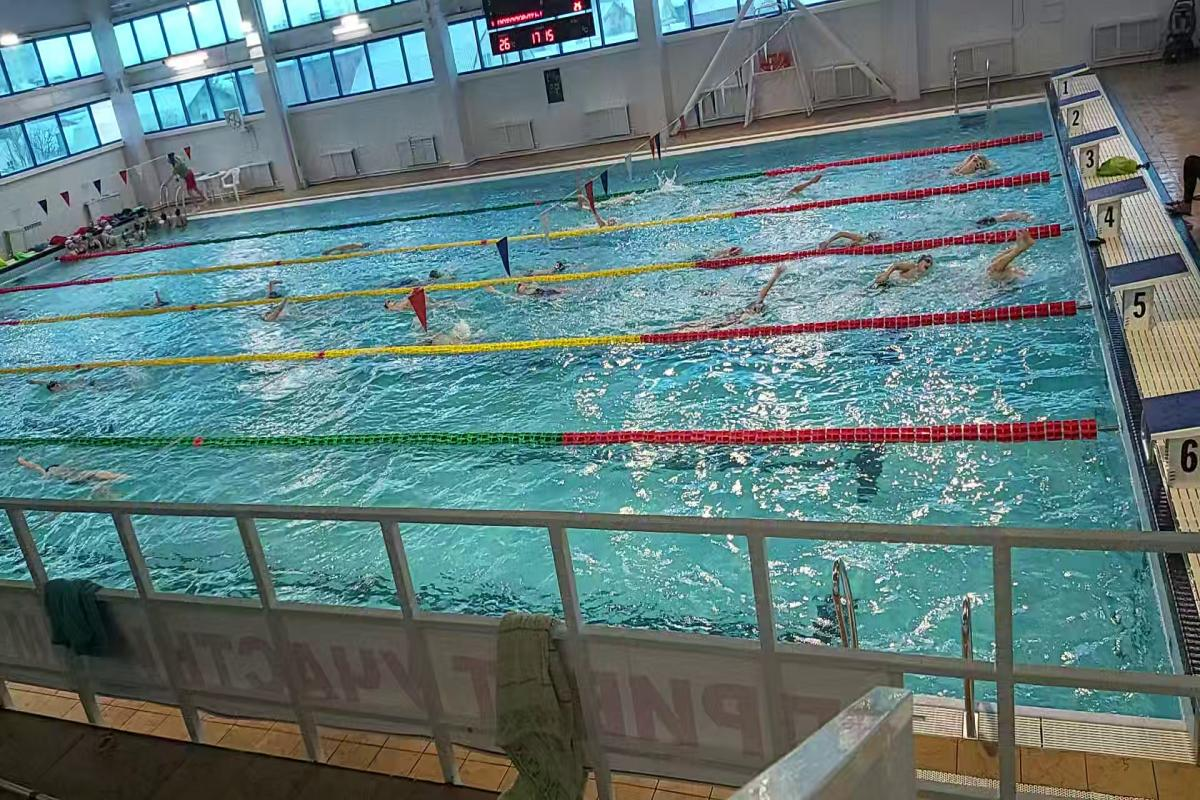swimmer: (666, 285, 792, 328), (13, 450, 140, 490), (866, 250, 946, 292), (23, 371, 133, 399), (957, 196, 1044, 224), (938, 152, 1008, 182), (493, 284, 588, 306), (376, 290, 457, 315), (813, 216, 886, 243), (680, 236, 746, 260), (256, 301, 296, 323), (318, 238, 378, 251)
